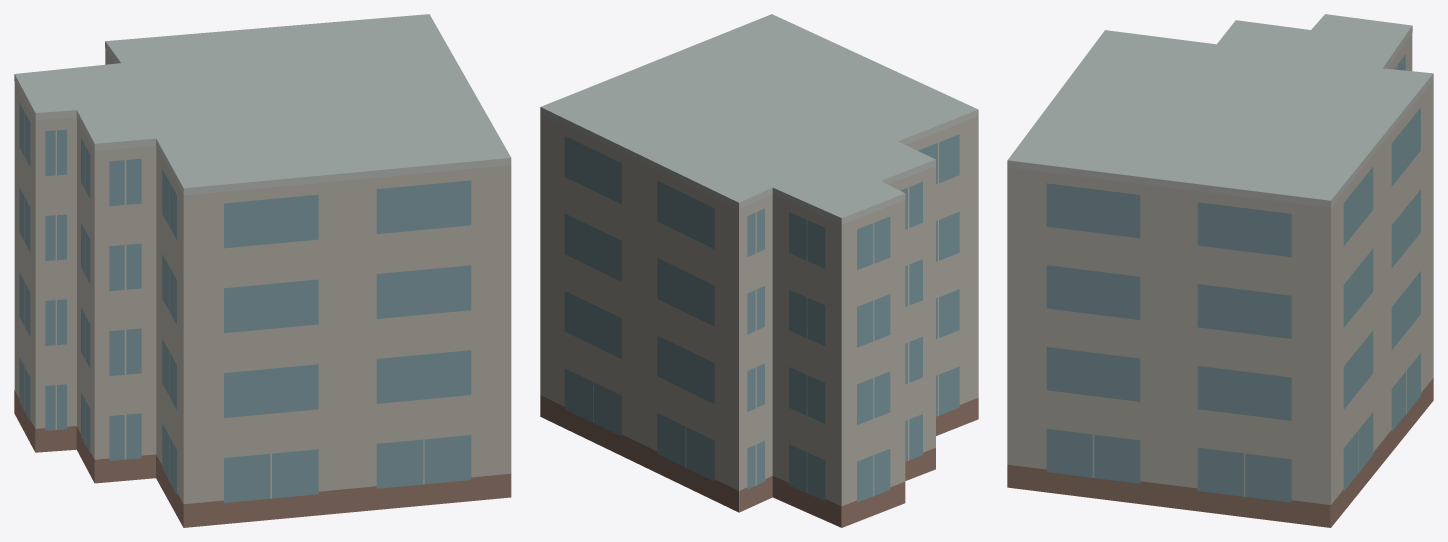
Rendered from survey-upis-32880938.glb.
3 renders of one model, left to right at view 1: azimuth 30°, elevation 25°; view 2: azimuth 150°, elevation 25°; view 3: azimuth 270°, elevation 25°, orthographic. The views are drawn at different scales.
Visible parts, largest first — view 1: survey-upis-32880938.tmp; view 2: survey-upis-32880938.tmp; view 3: survey-upis-32880938.tmp.
Part boxes in pixels (x1,y1,x2,y2): survey-upis-32880938.tmp: (14,14,511,527); survey-upis-32880938.tmp: (540,14,978,527); survey-upis-32880938.tmp: (1007,14,1433,527).
Bounding box in the file's own units: 14.21 × 11.6 × 13.7.
